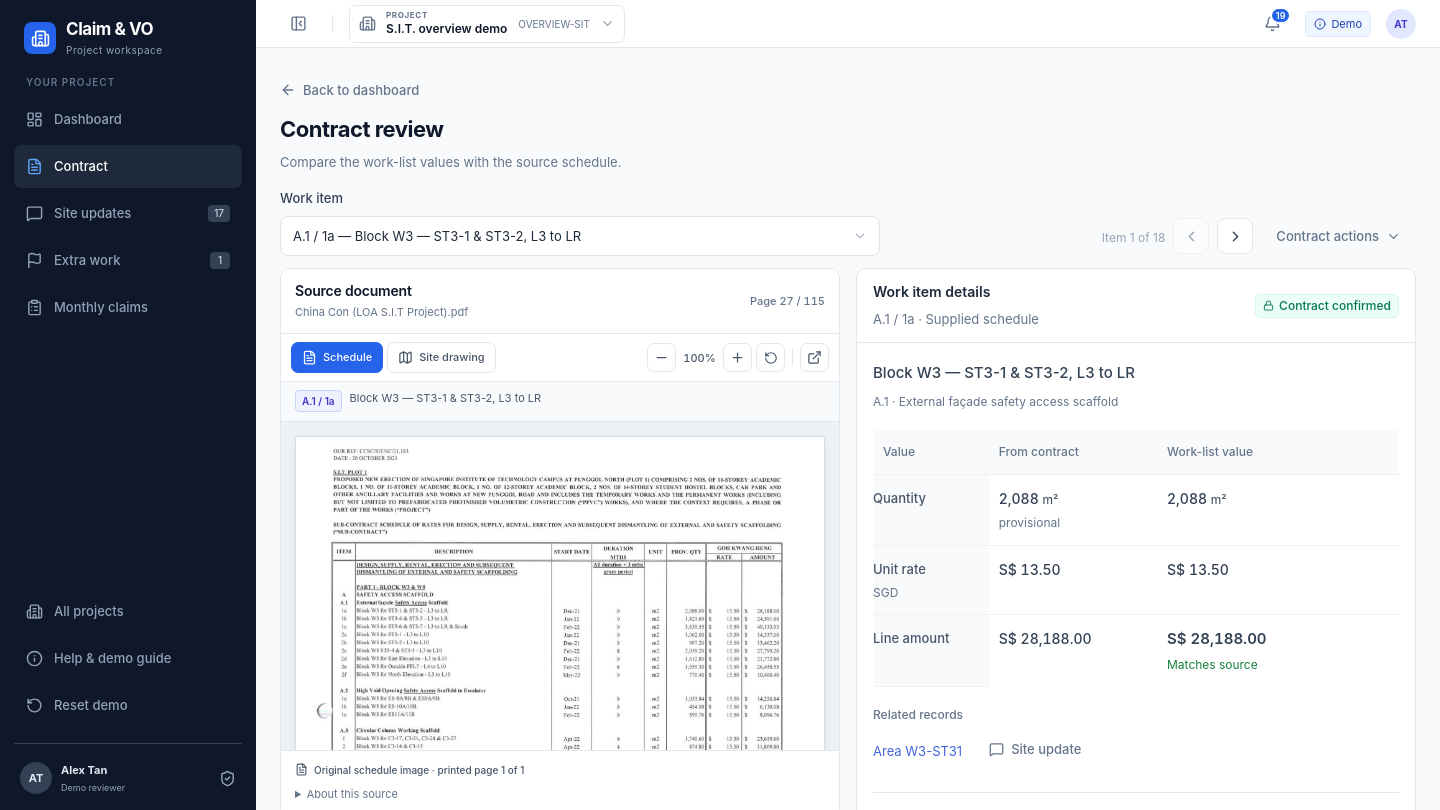
Test case: removed Overview links return to Dashboard without changing saved project records › preserves the exact legacy contract record and returns to Dashboard across reload
Expected: the heading "Block W3 — ST3-1 & ST3-2, L3 to LR" is shown, x1=873 y1=363 x2=1135 y2=382
Click the button "Back to dashboard" at (350, 90), box x1=280 y1=72 x2=419 y2=108
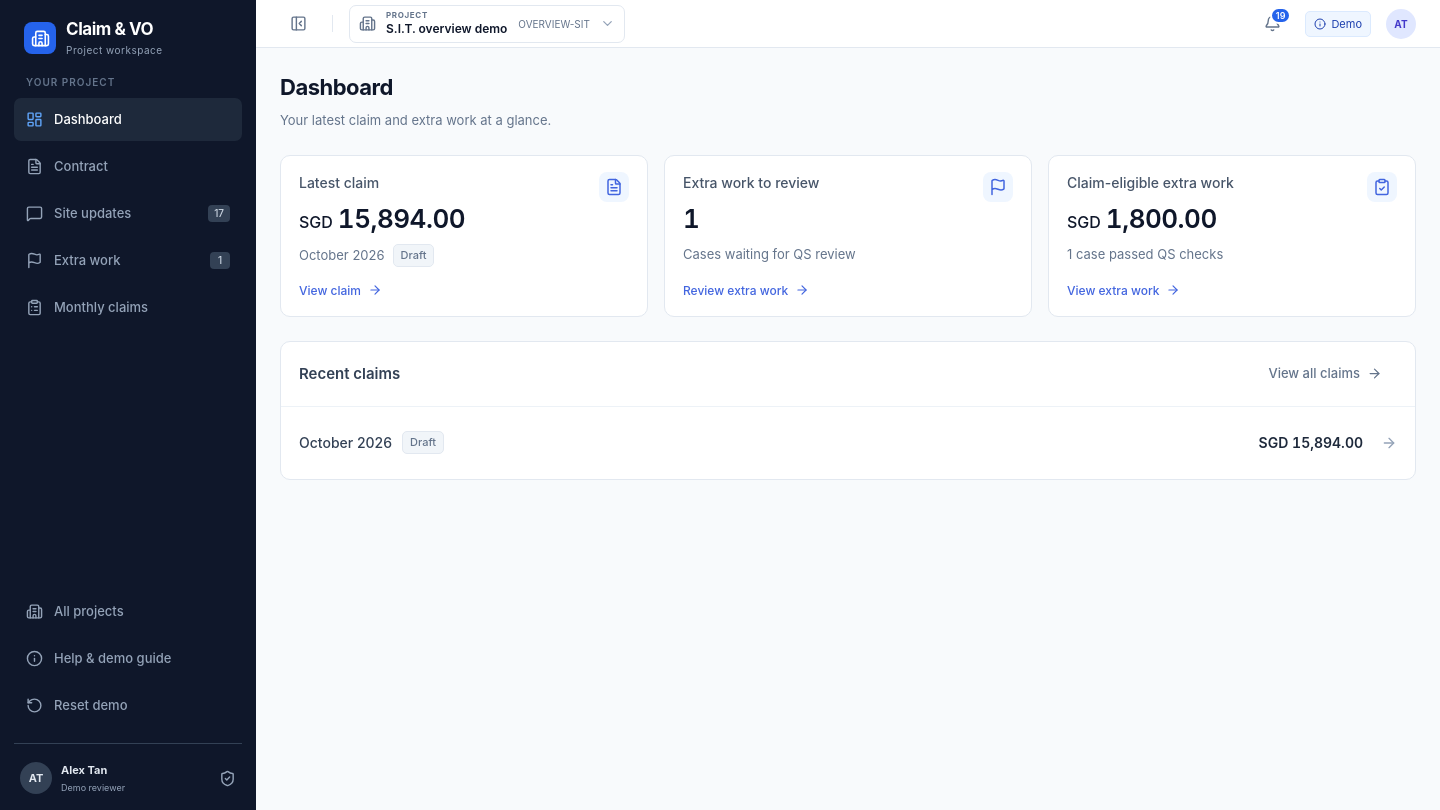
Expected: the heading "Dashboard" is shown, x1=280 y1=74 x2=393 y2=100
